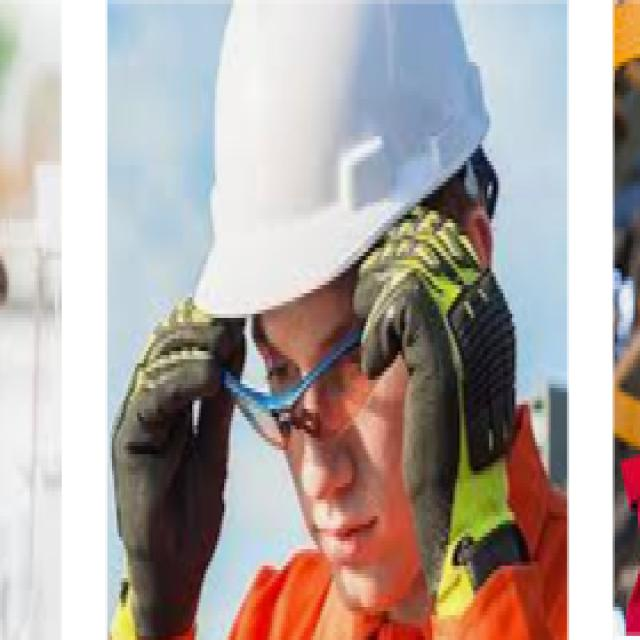glasses: (216, 317, 409, 457)
